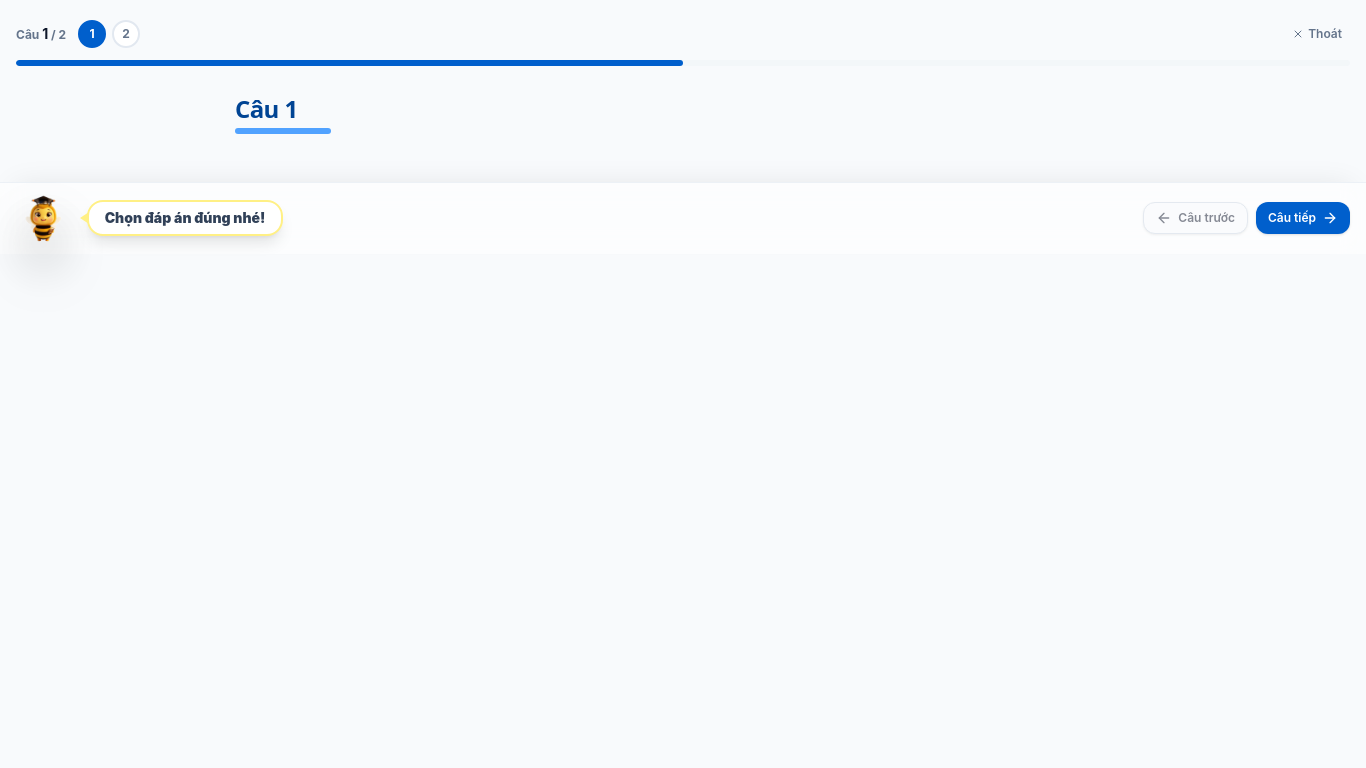
Test: SubmissionRunner — nộp xong chấm tại chỗ, không nhảy thẳng màn điểm › "Hoàn thành" mới sang màn điểm
Click the button "Câu tiếp" at (1303, 218), box [1256,202,1350,234]
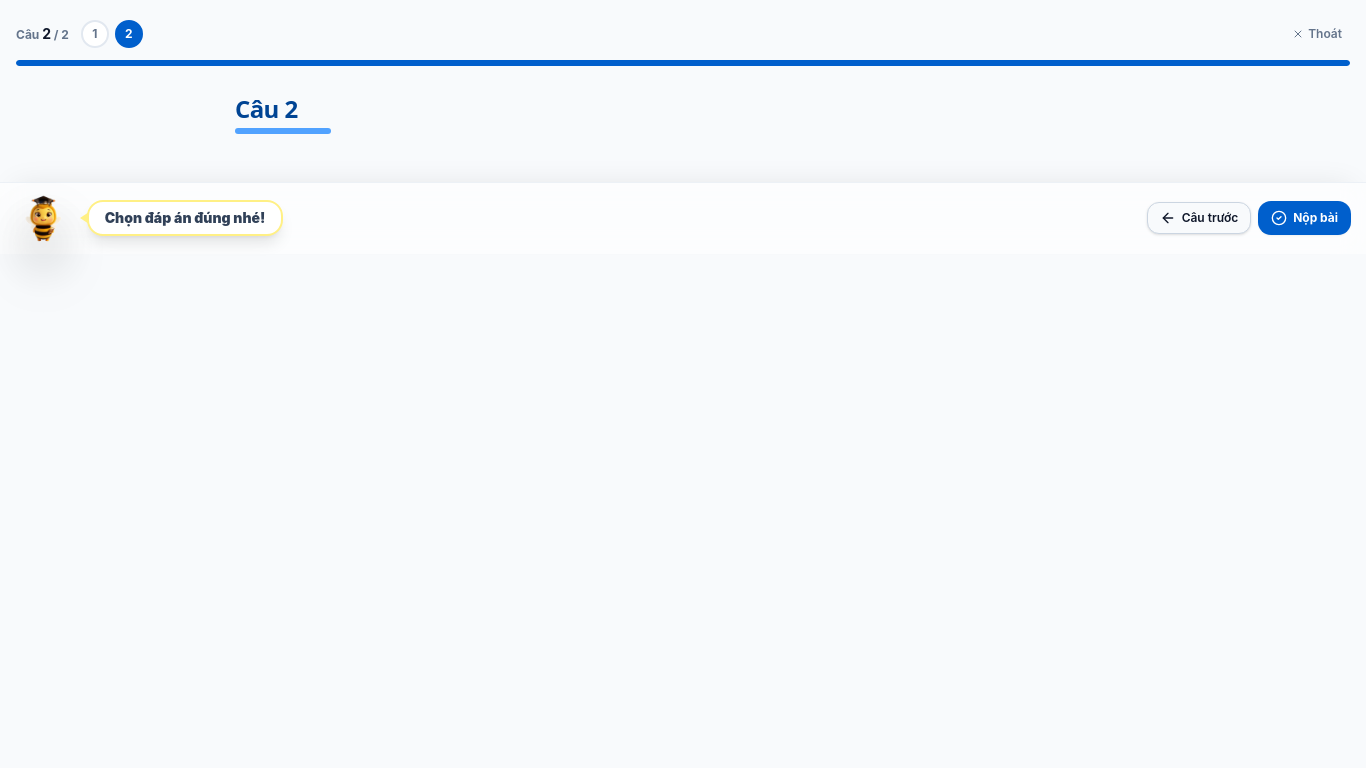
Click the button "Nộp bài" at (1305, 218), box [1259,202,1350,234]
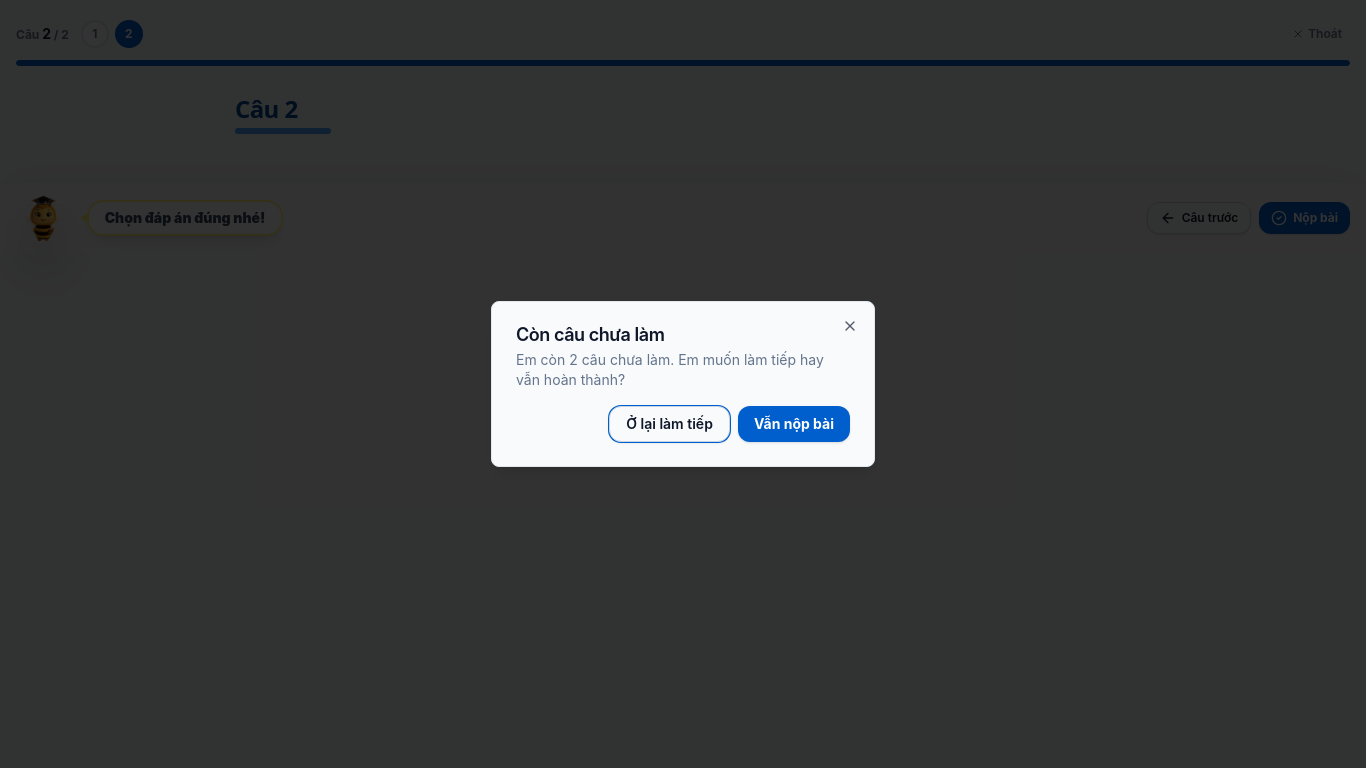
Click the button "Vẫn nộp bài" at (794, 424), box [738,406,850,442]
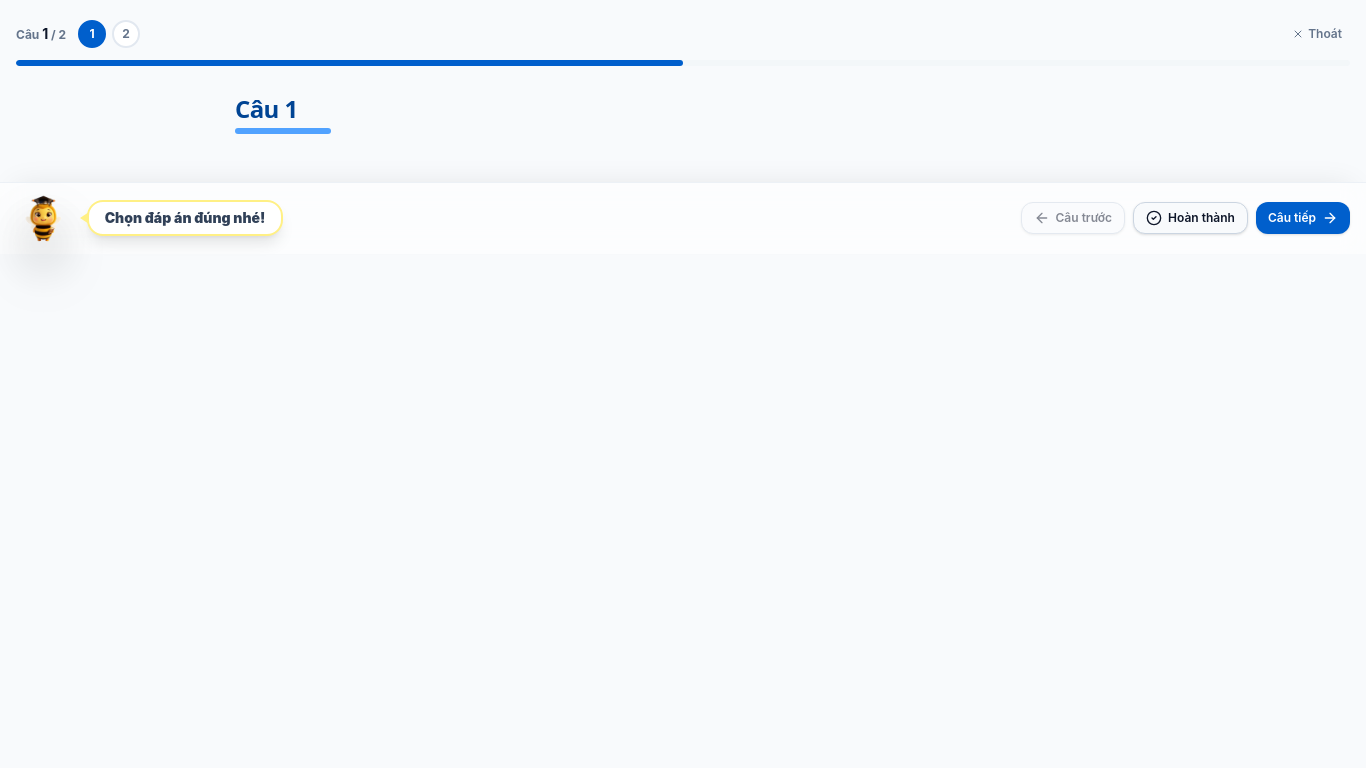
Click the button "Hoàn thành" at (1190, 218), box [1133,202,1248,234]
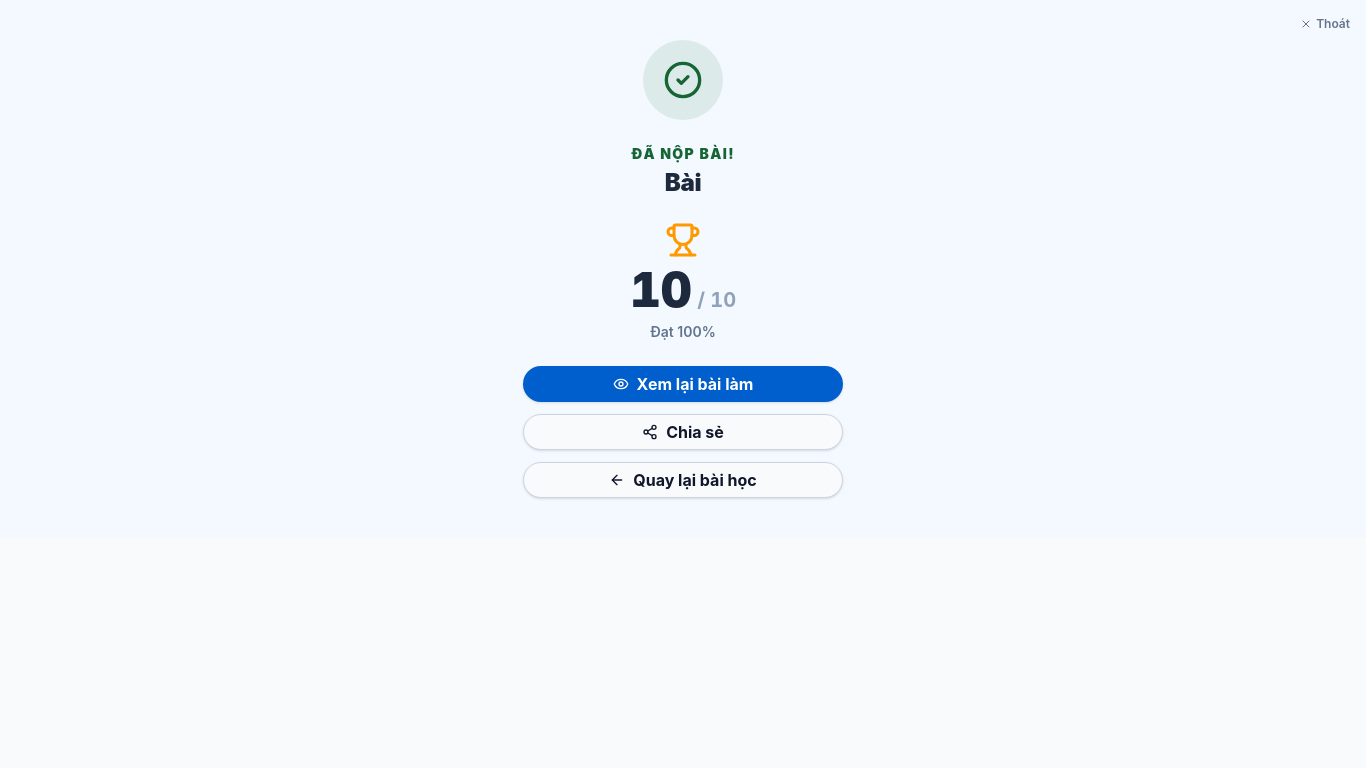
Result: the text "Đã nộp bài!" is shown at [631,144,735,164]
Result: the text "10" is shown at [630,260,692,319]
